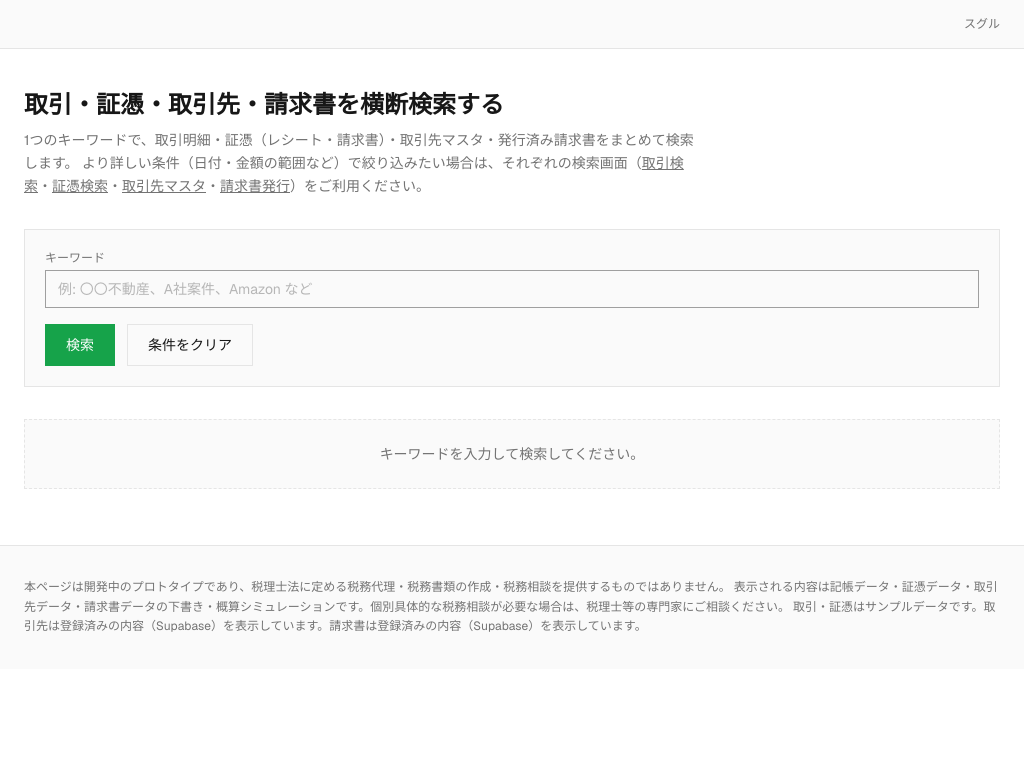
Test: SearchPage › テナント解決後は取引・証憑・取引先・請求書のいずれも実データに差し替わる
Type "実データ限定" into the field labelled "キーワード" at (512, 289), box [45,270,979,308]
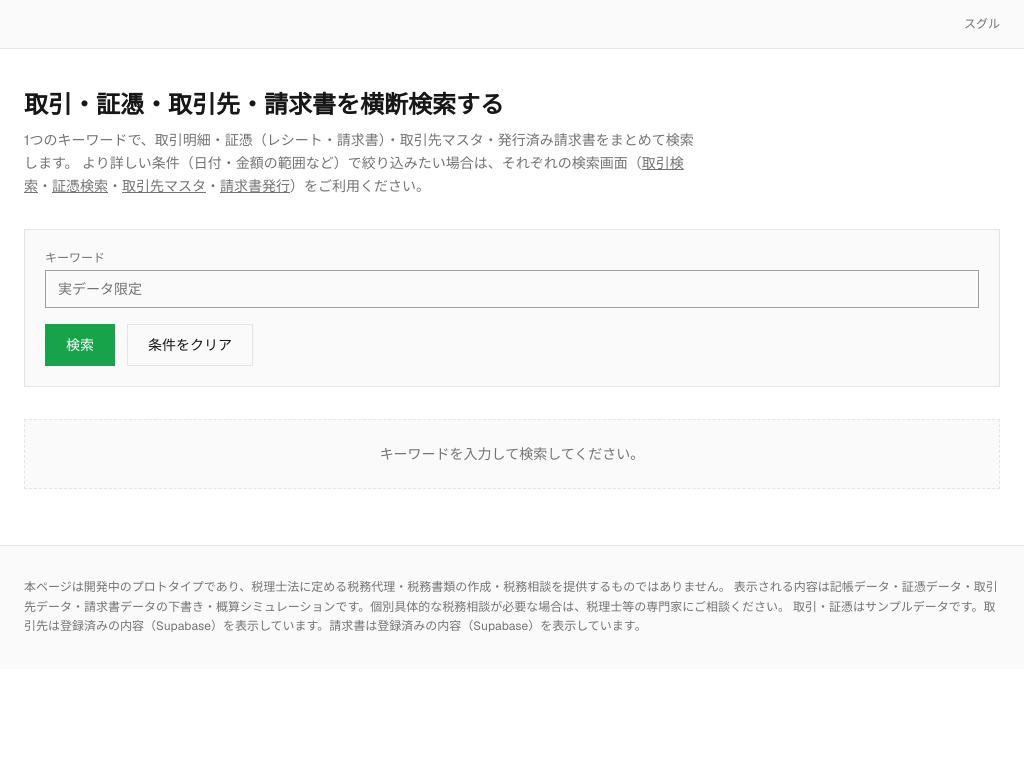
Click the button "検索" at (80, 345), box [45,324,115,366]
(page scrolled)
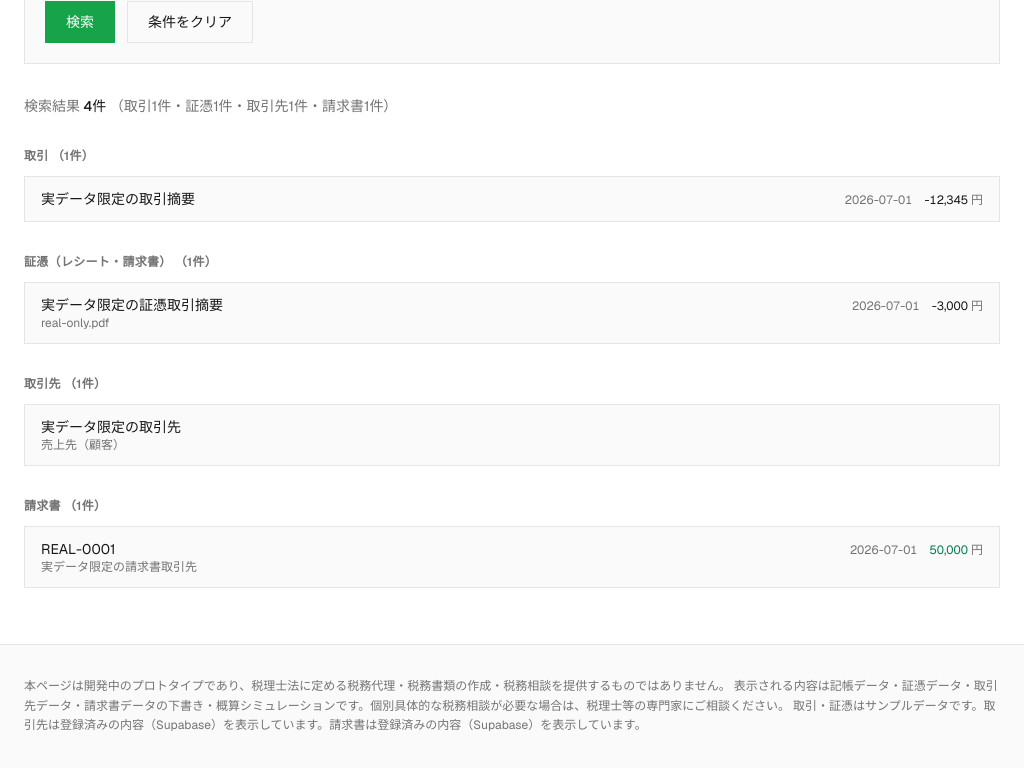
Expected: the text "実データ限定の取引摘要" is shown, [41,189,195,209]
Expected: the text "実データ限定の証憑取引摘要" is shown, [41,295,223,315]
Expected: the text "実データ限定の取引先" is shown, [41,417,181,437]
